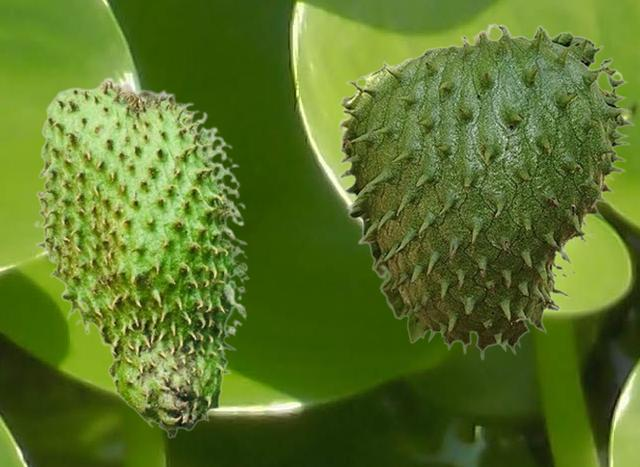guyabano: (338, 22, 634, 360), (33, 76, 250, 438)
